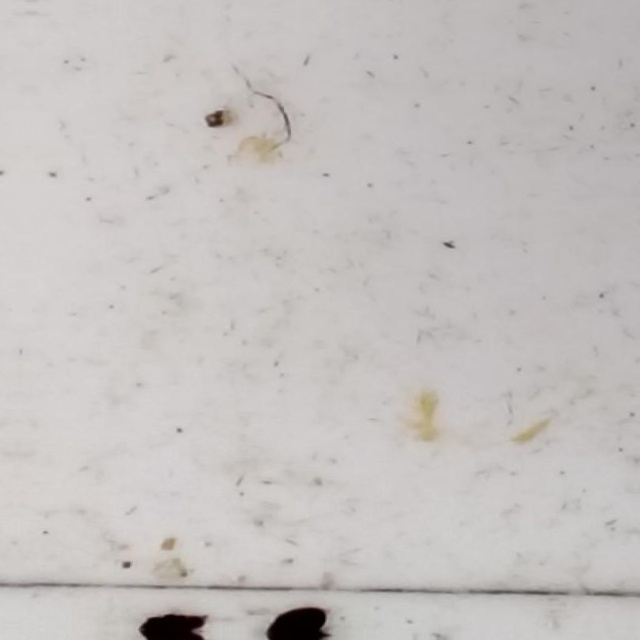varroa: (265, 603, 325, 634), (136, 612, 205, 631)
